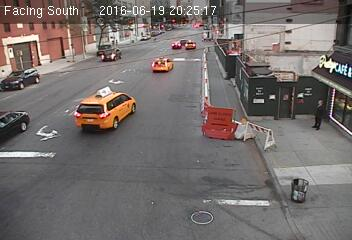neg: (109, 84, 134, 118), (188, 104, 207, 129), (164, 71, 179, 92)
pos: (307, 98, 331, 130)
